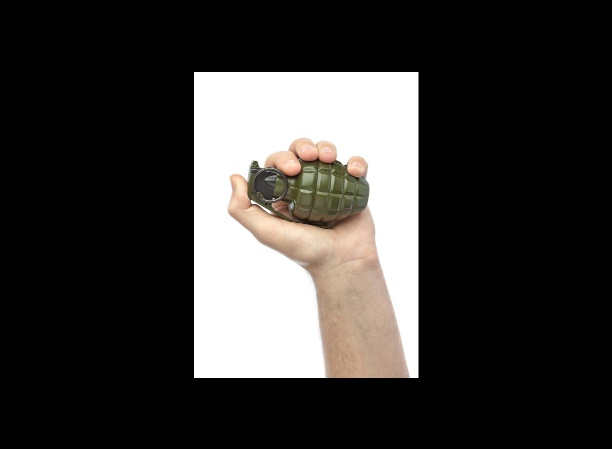e1: (247, 158, 371, 226)
